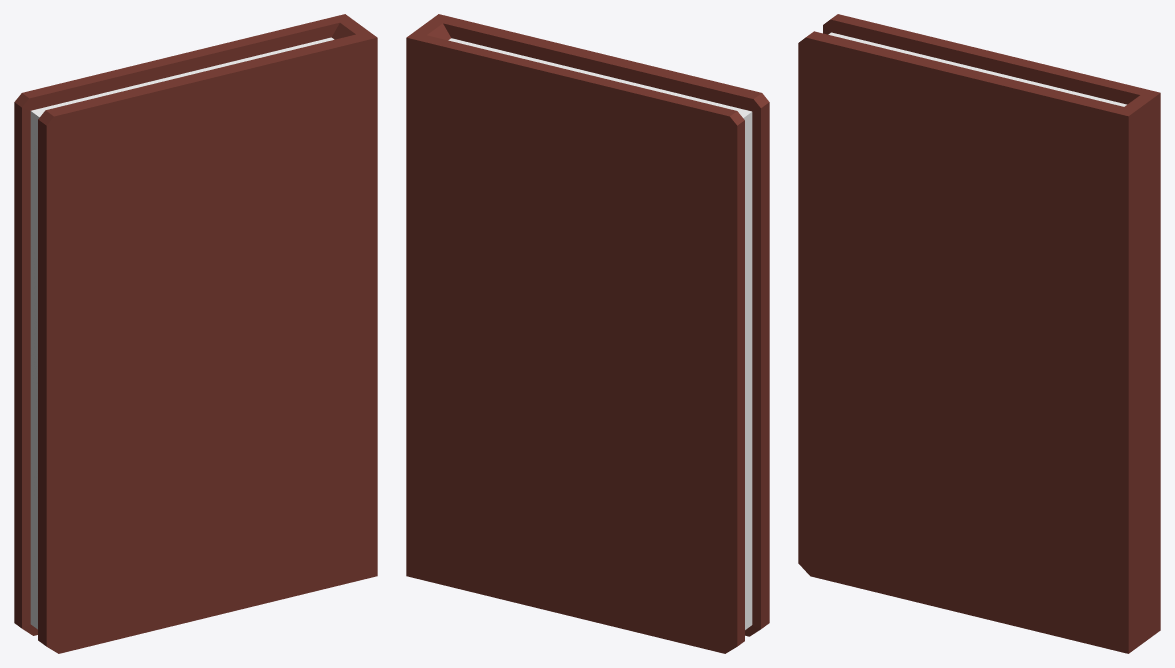
The model's file is book05.obj.
3 renders of one model, left to right at view 1: azimuth 30°, elevation 25°; view 2: azimuth 150°, elevation 25°; view 3: azimuth 330°, elevation 25°, orthographic.
Visible parts, largest first — view 1: Cube.001_Cube.004; view 2: Cube.001_Cube.004; view 3: Cube.001_Cube.004.
Boxes of the visible parts, x1=… form: Cube.001_Cube.004: x1=14, y1=14, x2=377, y2=653; Cube.001_Cube.004: x1=406, y1=14, x2=769, y2=653; Cube.001_Cube.004: x1=798, y1=14, x2=1160, y2=653.
Size of the model in its own units: 0.1478 by 0.2299 by 0.025.
